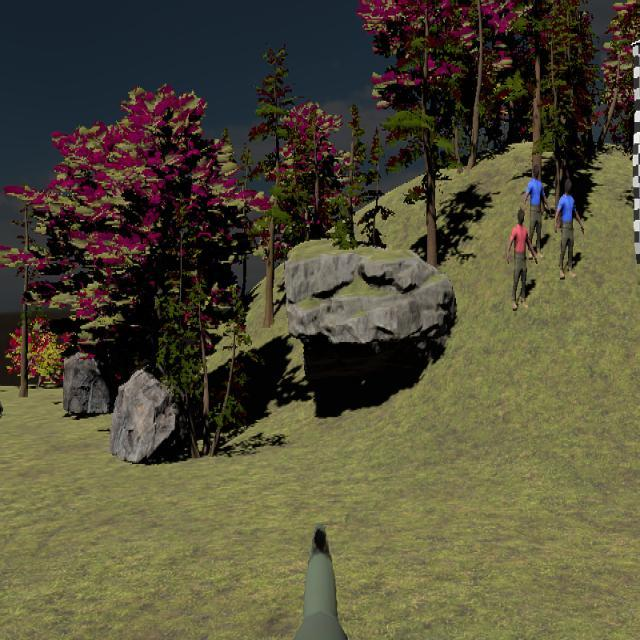Human: (508, 209, 538, 311), (521, 164, 551, 262), (555, 178, 584, 279)
